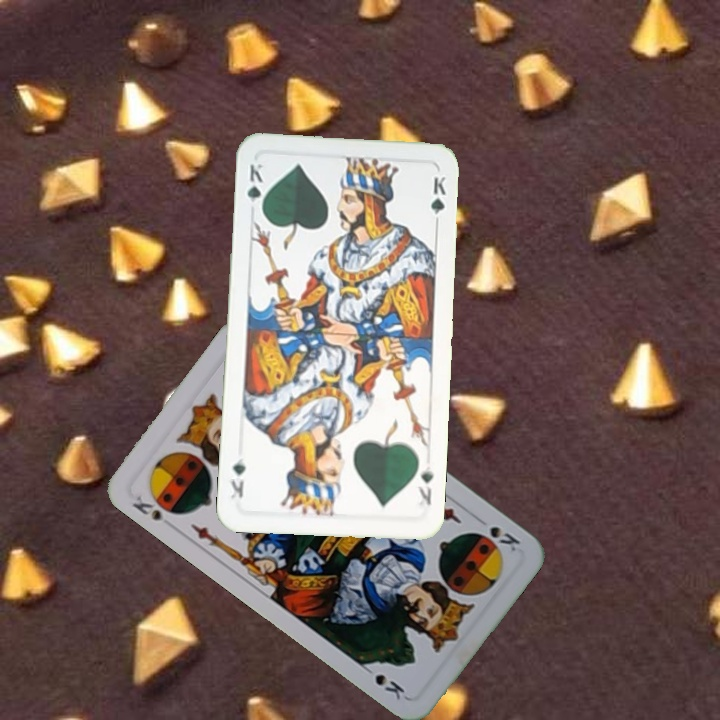GK: (243, 159, 265, 217), (412, 460, 436, 509)
SK: (128, 488, 182, 531), (485, 522, 523, 555)
